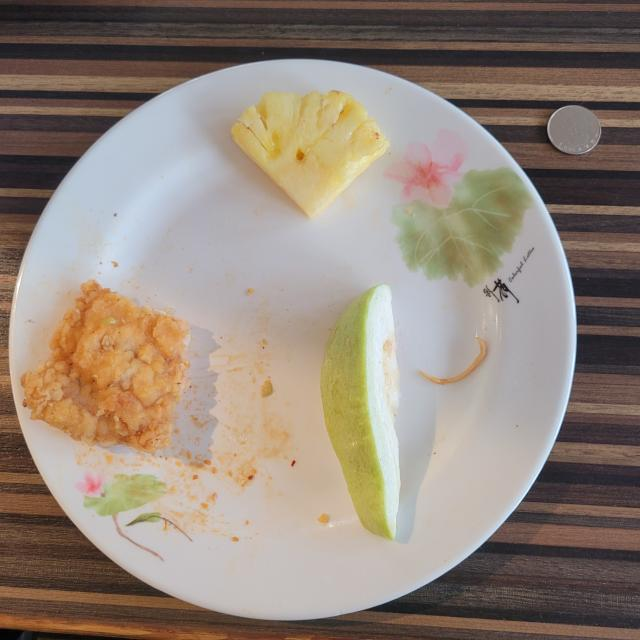coin: (548, 105, 601, 155)
fried chicken cutlet: (21, 280, 190, 452)
guava -sliced-: (321, 284, 400, 540)
pineapple: (231, 90, 389, 219)
